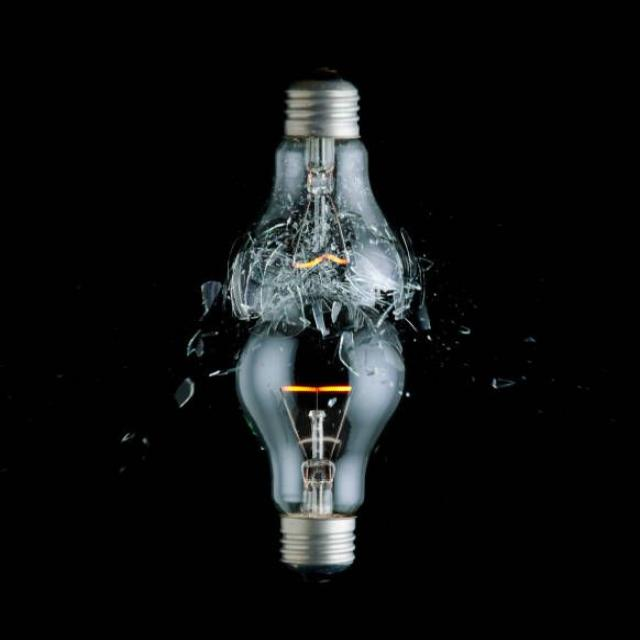electronic: (174, 67, 434, 580), (232, 318, 406, 577)
